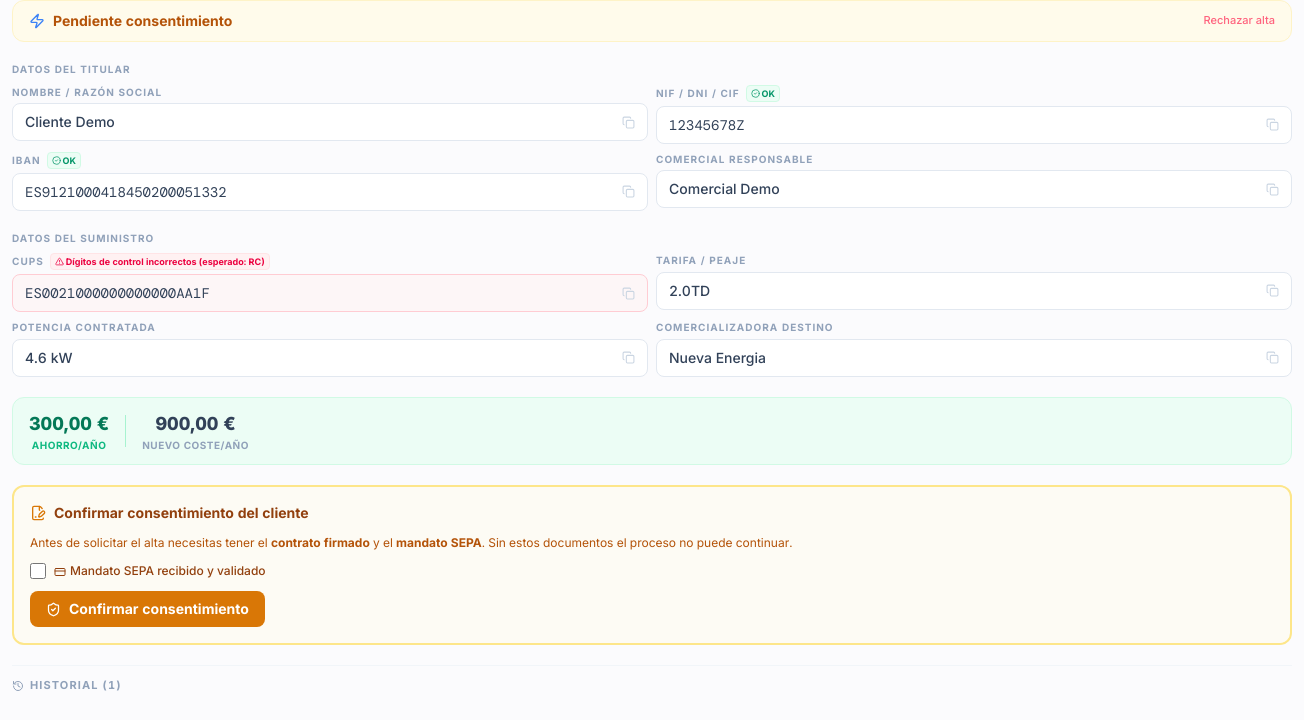
Test case: ExpedienteAlta › refreshes the visible history count after a successful alta action
The image size is (1304, 720).
Expected: the button "Historial (1)" is shown, [12, 678, 122, 694]
Click the checkbox labelled "Mandato SEPA recibido y validado".
click(38, 571)  # box [30, 563, 46, 579]
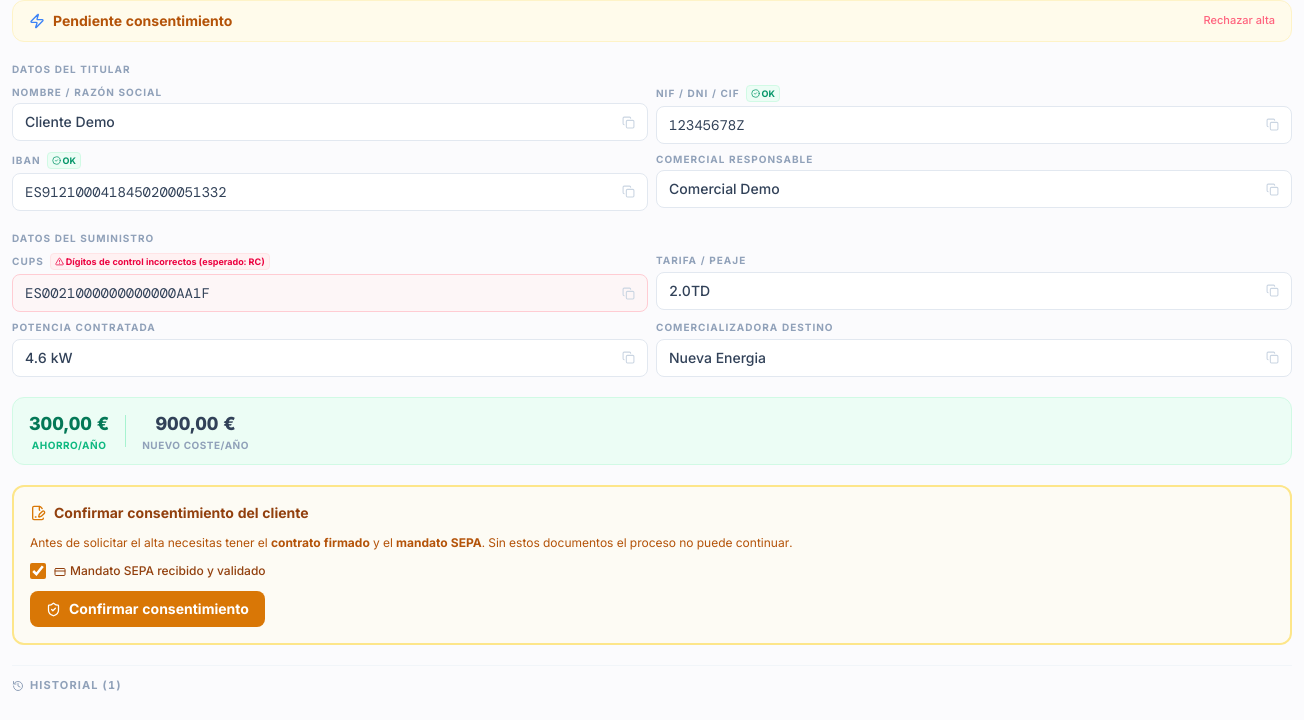
Click the button "Confirmar consentimiento".
click(147, 609)  # box [30, 591, 265, 627]
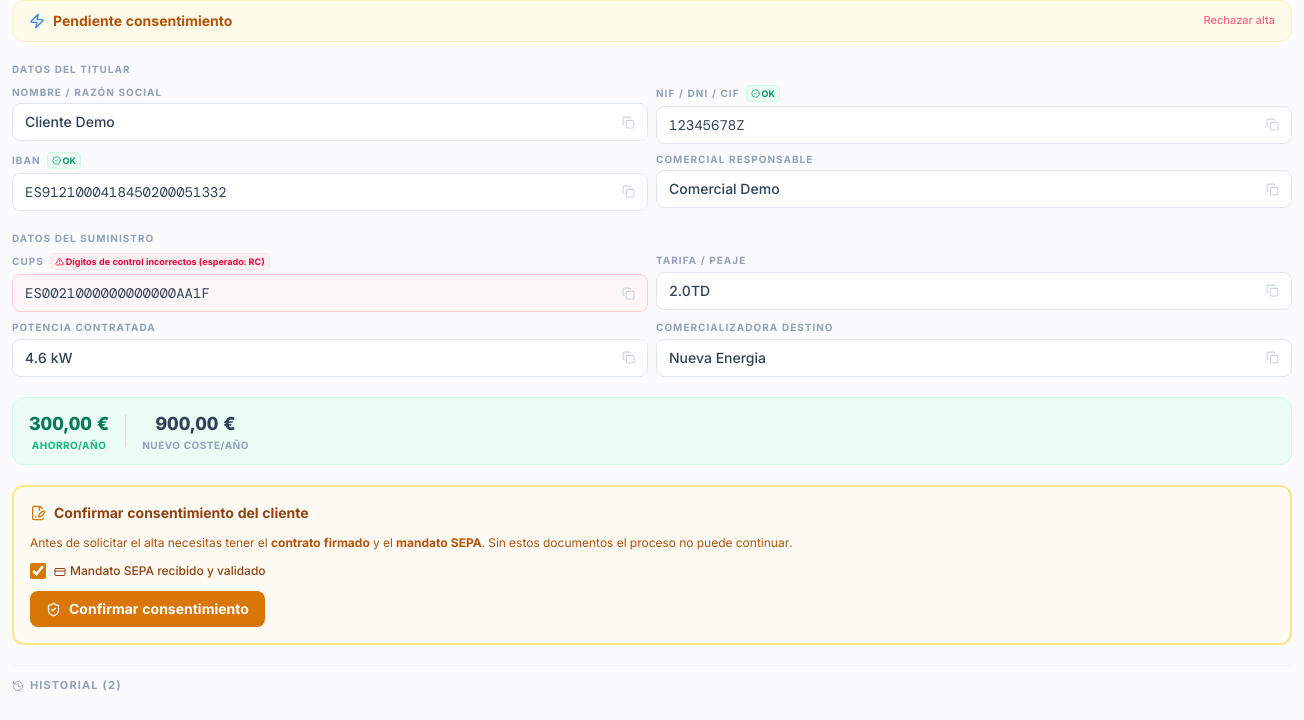
Now the button "Historial (2)" is shown
Click the button "Historial (2)".
click(67, 686)  # box [12, 678, 122, 694]
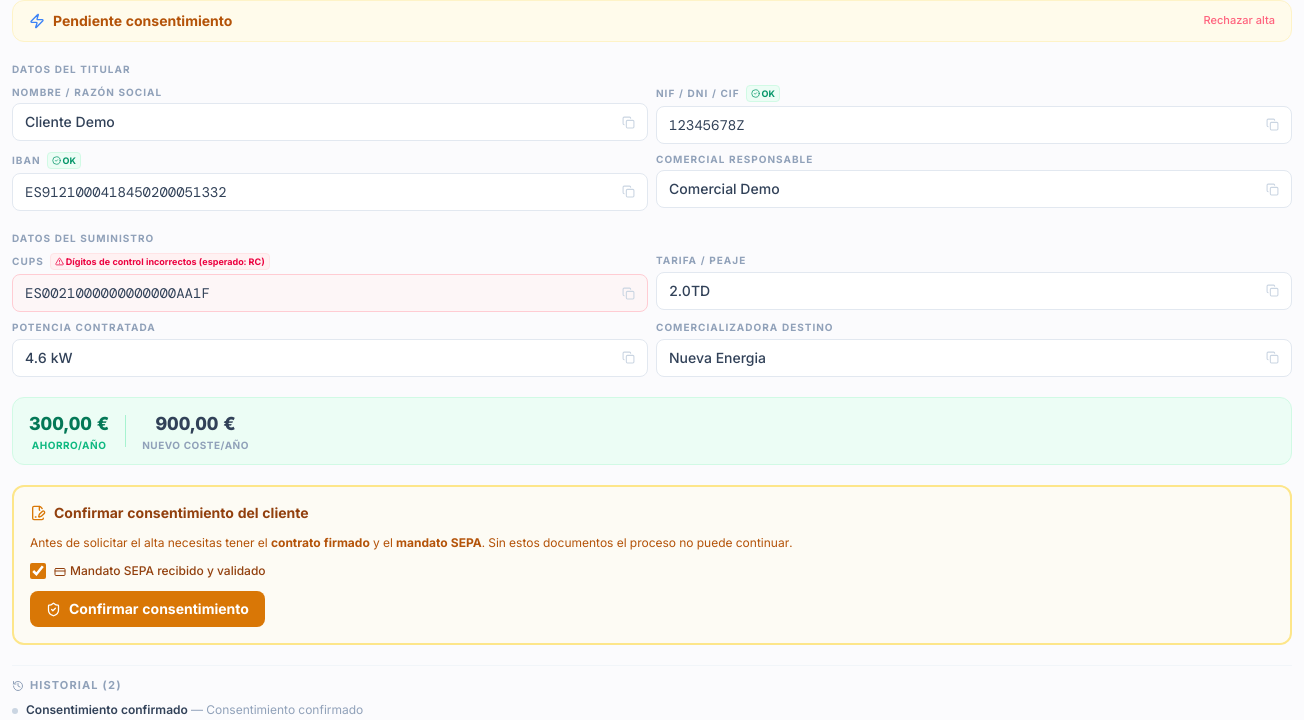
Now the text "Consentimiento confirmado" is shown, box [26, 702, 188, 717]
